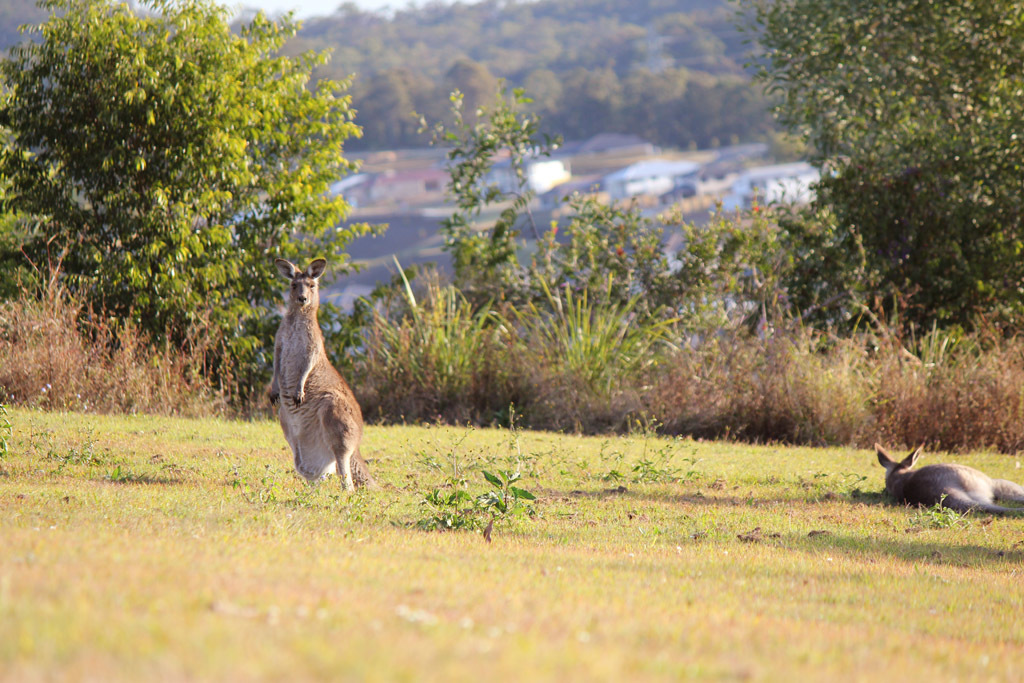kangaroo: (270, 255, 373, 491)
